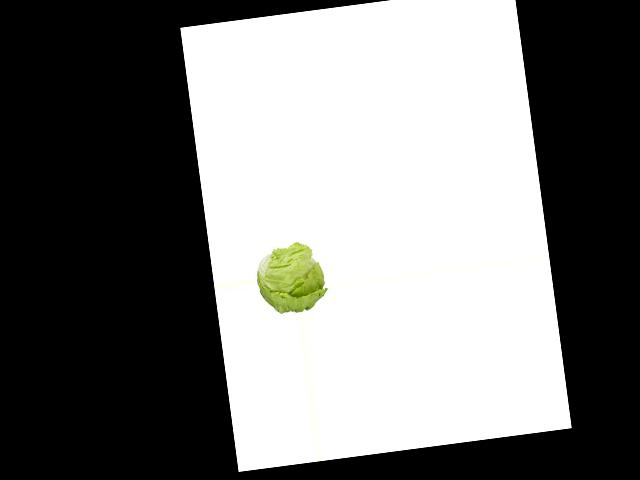lettuce: (251, 242, 328, 317)
